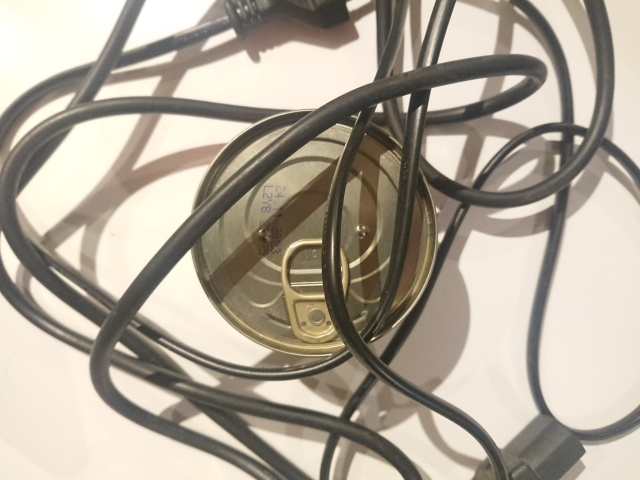Podravka Luncheon Meat 150g: (185, 107, 443, 360)
